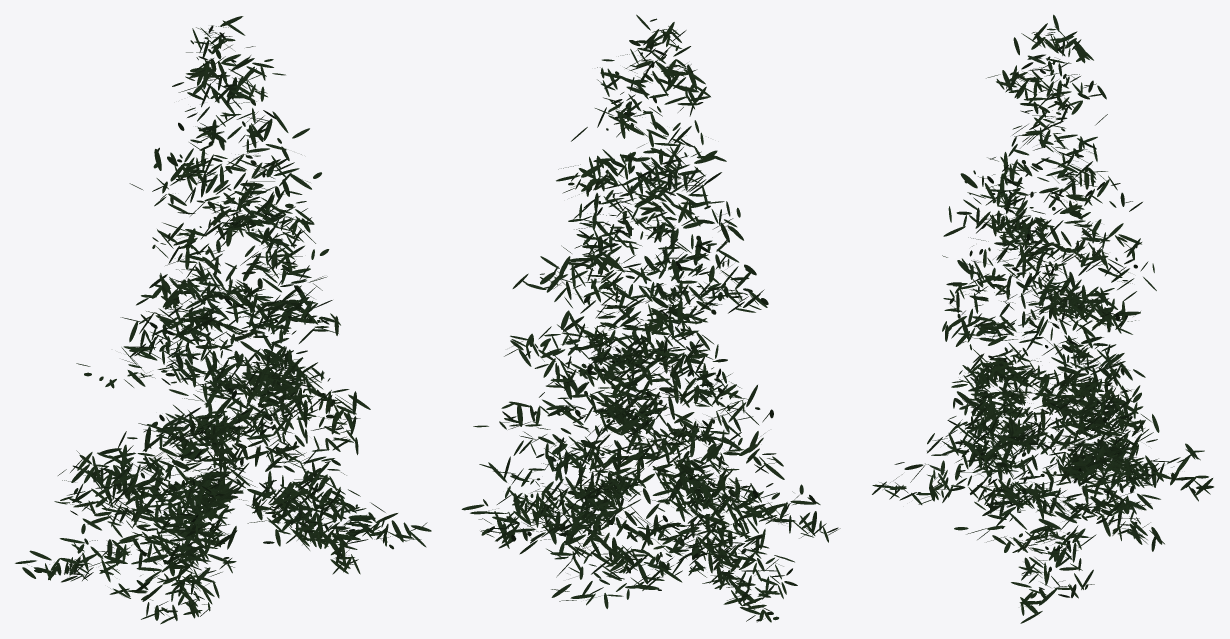
The model's file is landscape-tree-44-far.glb.
3 views of the same model, side by side, from view 1: azimuth 30°, elevation 25°; view 2: azimuth 150°, elevation 25°; view 3: azimuth 270°, elevation 25° (orthographic). The views are drawn at different scales.
Parts seen in each view (by area): view 1: V6 south conifer 01 needles far; view 2: V6 south conifer 01 needles far; view 3: V6 south conifer 01 needles far.
Part boxes in pixels (x1,y1,x2,y2): V6 south conifer 01 needles far: [15, 16, 431, 624]; V6 south conifer 01 needles far: [461, 14, 840, 622]; V6 south conifer 01 needles far: [872, 14, 1213, 623].
Size of the model in its own units: 6.24 by 9.24 by 5.55.
1 material, 1 textured.
